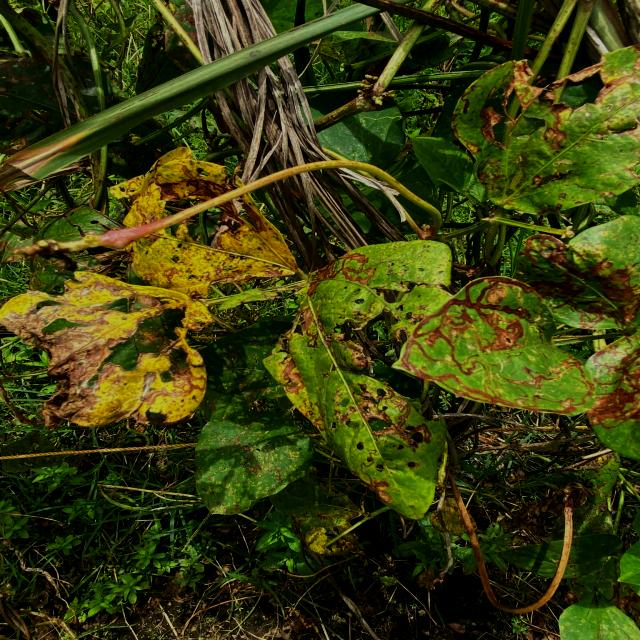leaf-moderate: (276, 240, 452, 520), (451, 46, 640, 226), (0, 269, 213, 428), (126, 194, 298, 296), (515, 216, 640, 334), (110, 147, 237, 227), (269, 476, 362, 556), (585, 326, 640, 460)
sitaw-aphid-low: (195, 320, 314, 515)
sitaw-aphid-moderate: (122, 156, 441, 245), (447, 473, 580, 615), (355, 0, 512, 53), (487, 216, 535, 229), (102, 231, 124, 247)
